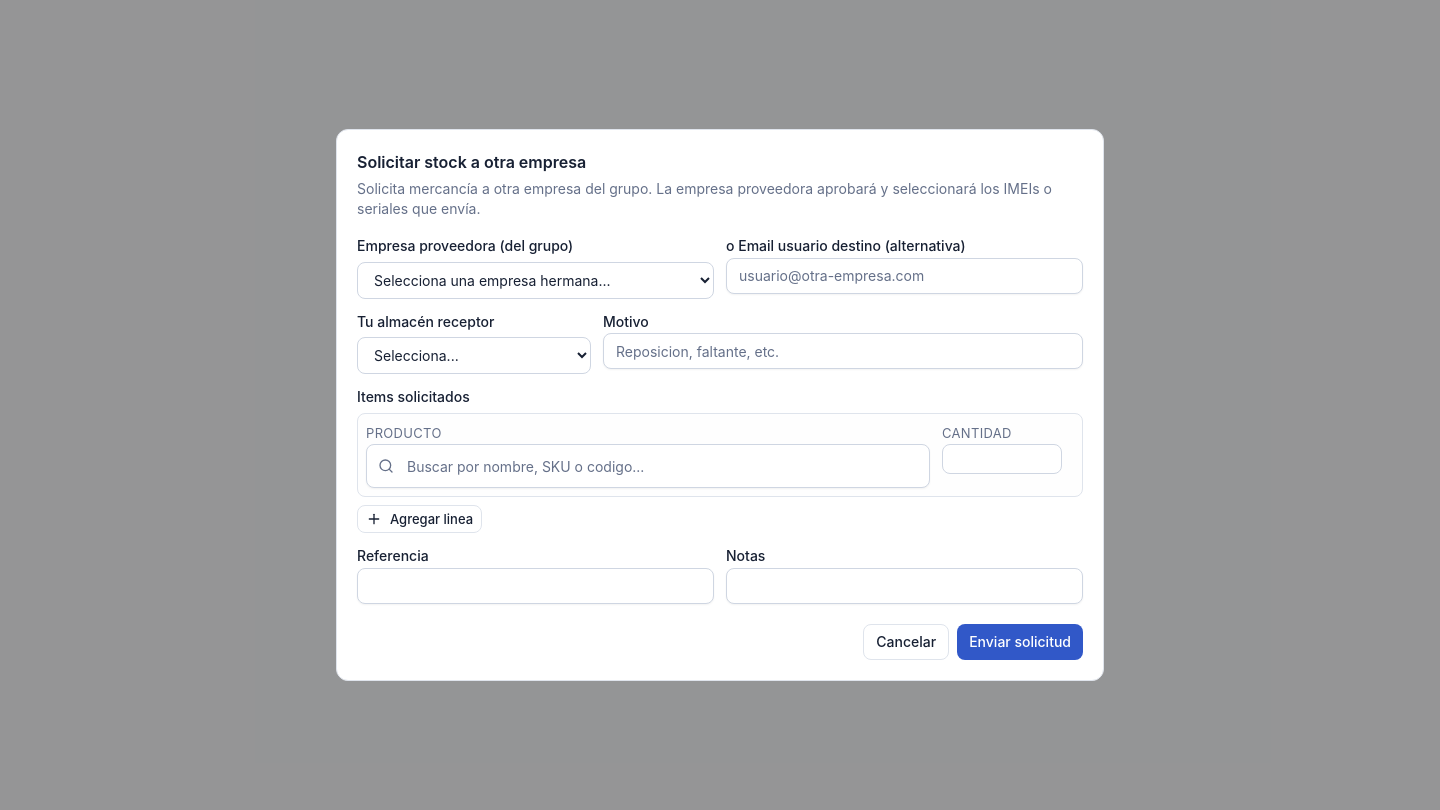
Test: CreateInventoryTransferRequestDialog › muestra preview en vivo al seleccionar una empresa hermana
Select "Demo Valencia Centro (demo-valencia-centro)" in the dropdown with test id "dest-company" at (536, 280), box [357,262,714,299]
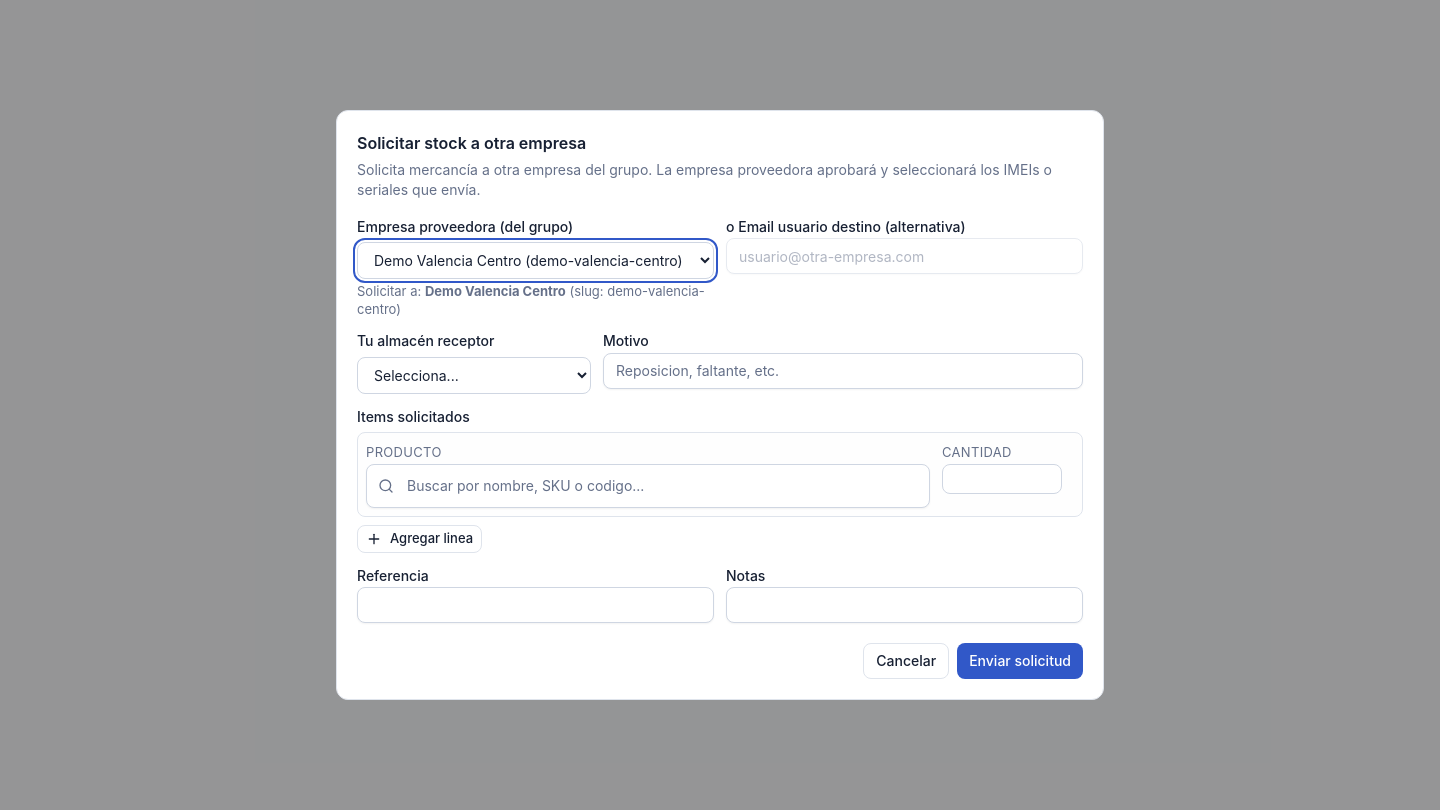
Expected: the element with test id "dest-preview" shows "Demo Valencia Centro", [425,283,566,299]
Expected: the element with test id "dest-preview" shows "demo-valencia-centro", [357,283,705,317]
